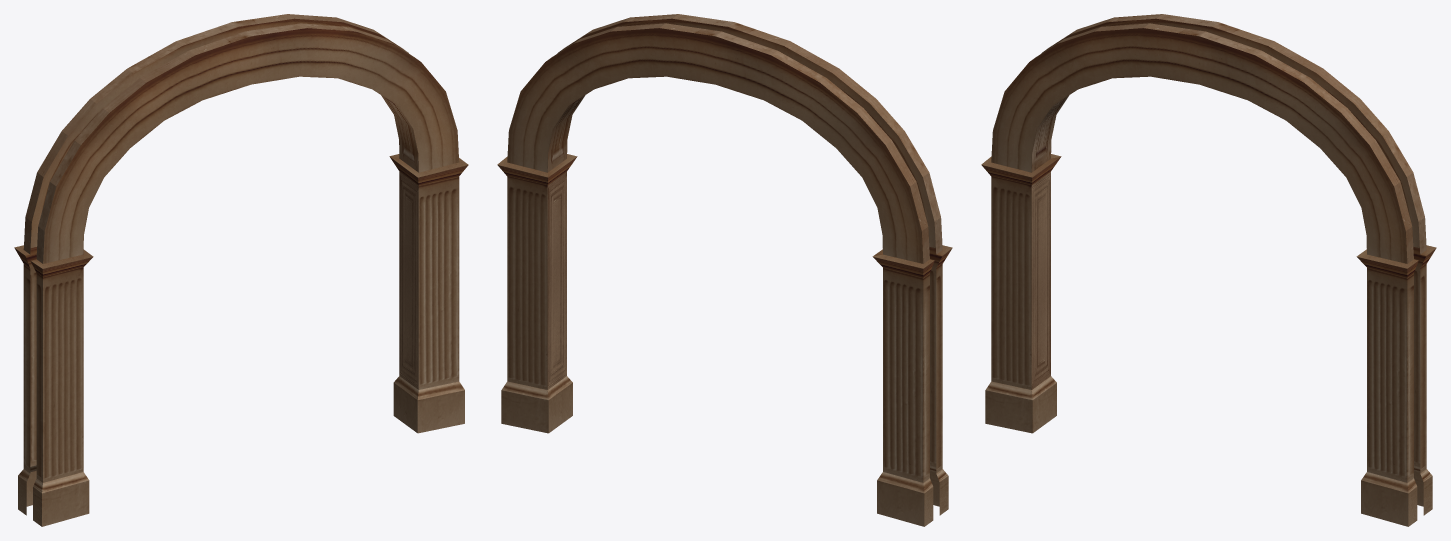
Rendered from DoorframeInt2ArchA.fbx.
3 views of the same model, side by side, from view 1: azimuth 30°, elevation 25°; view 2: azimuth 150°, elevation 25°; view 3: azimuth 330°, elevation 25° (orthographic).
Parts seen in each view (by area): view 1: DoorframeInt2ArchA; view 2: DoorframeInt2ArchA; view 3: DoorframeInt2ArchA.
Part boxes in pixels (x1,y1,x2,y2): DoorframeInt2ArchA: (14,14,468,526); DoorframeInt2ArchA: (497,14,952,526); DoorframeInt2ArchA: (981,14,1436,526).
Bounding box in the file's own units: 375 × 365 × 43.89.
